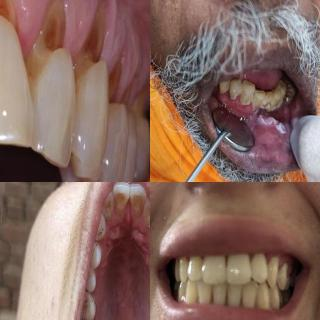Gum Swelling: (60, 0, 101, 56), (223, 95, 253, 116), (268, 253, 300, 272)
calculus: (259, 85, 286, 112)
plaque: (225, 78, 257, 106), (130, 200, 142, 223), (89, 288, 97, 308), (112, 196, 118, 211), (148, 215, 150, 232)
stains: (78, 288, 98, 320), (113, 190, 127, 214), (96, 214, 106, 246), (130, 189, 142, 214), (102, 200, 114, 220), (91, 235, 99, 262), (84, 269, 92, 289), (144, 201, 150, 224)
